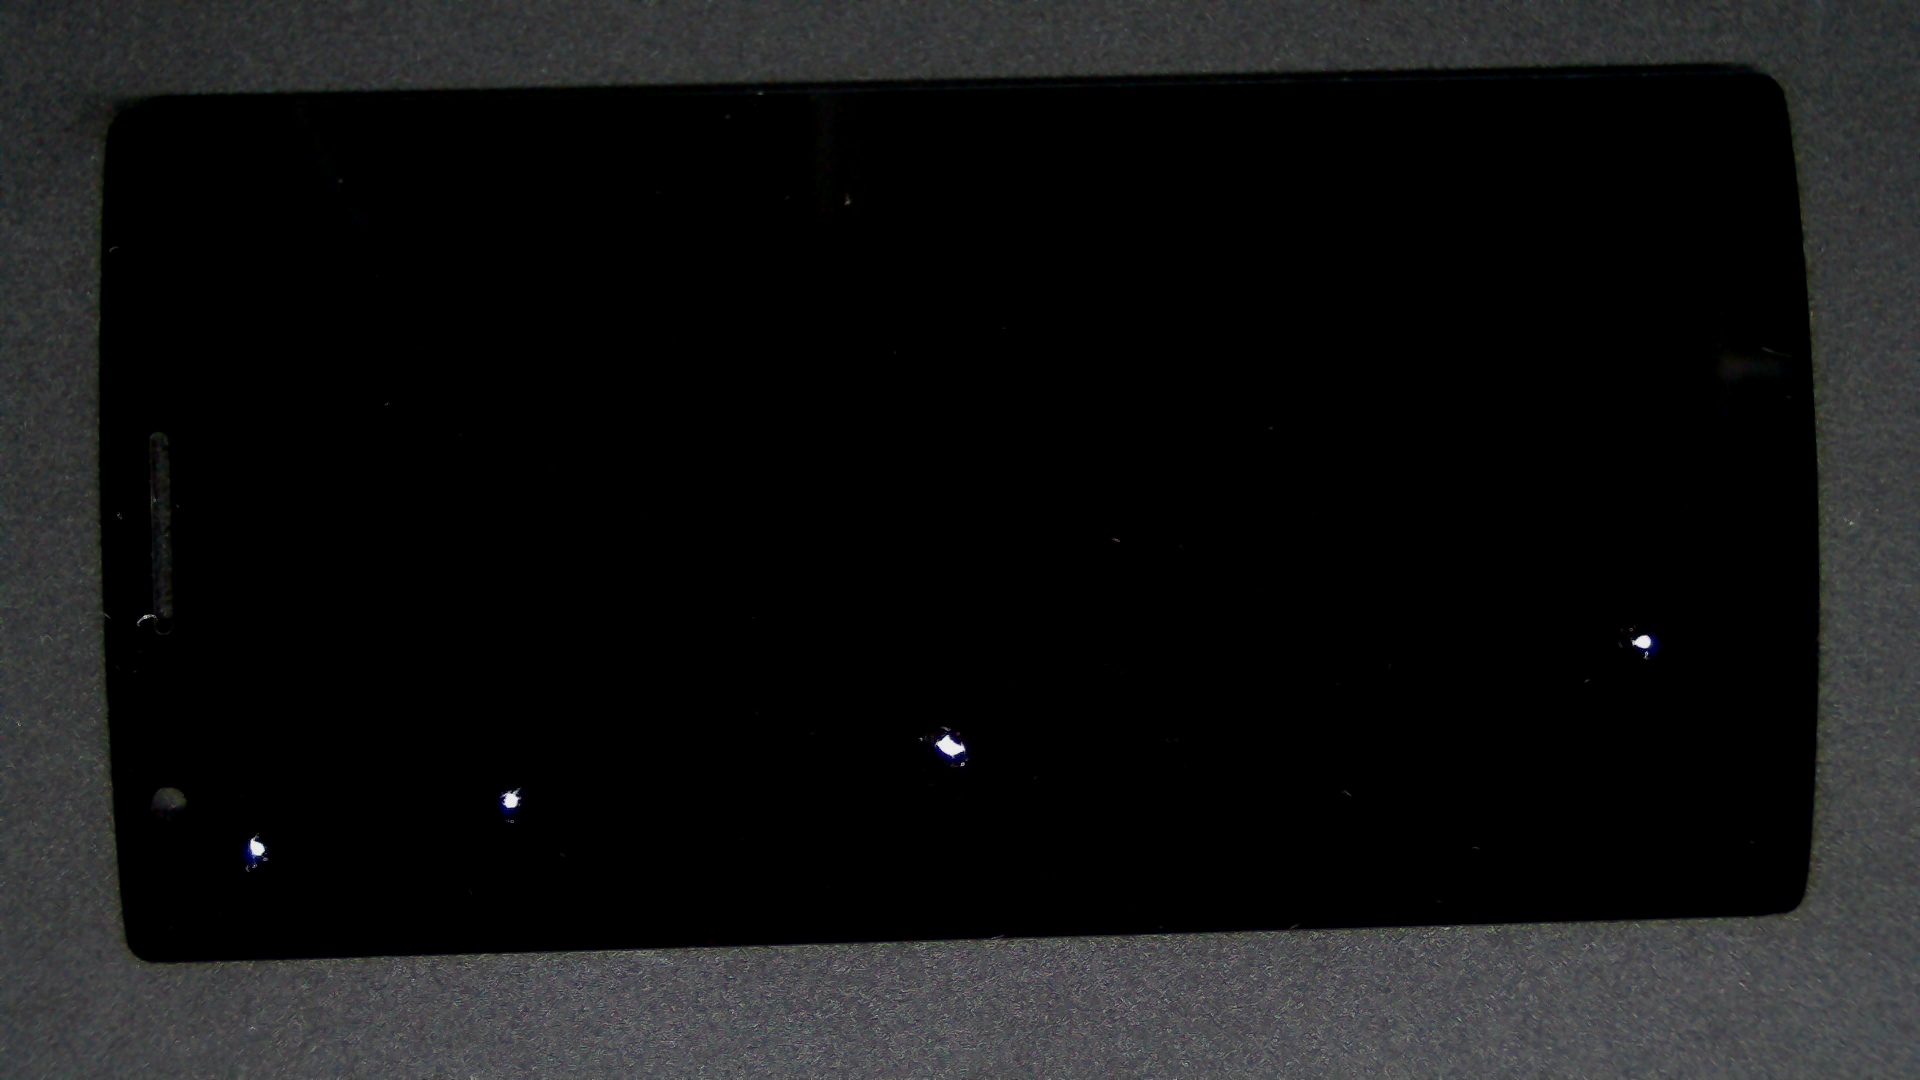oil: (821, 316, 1920, 951), (482, 378, 1446, 1080), (471, 362, 1411, 1080), (258, 393, 774, 1080), (253, 408, 757, 1080), (129, 415, 383, 1080)
